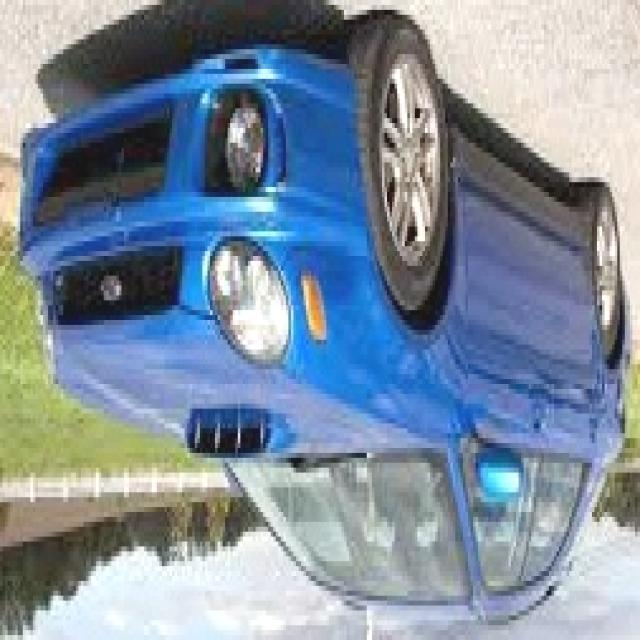blue: (19, 16, 630, 628)
